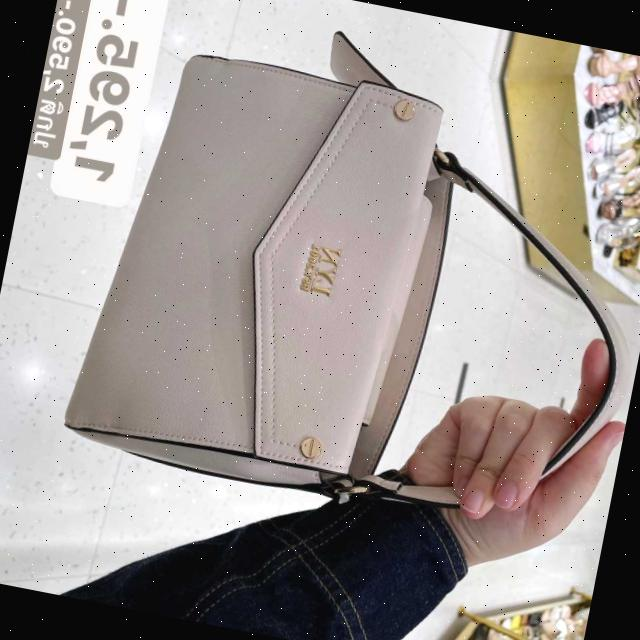Handbag: (54, 5, 516, 538)
